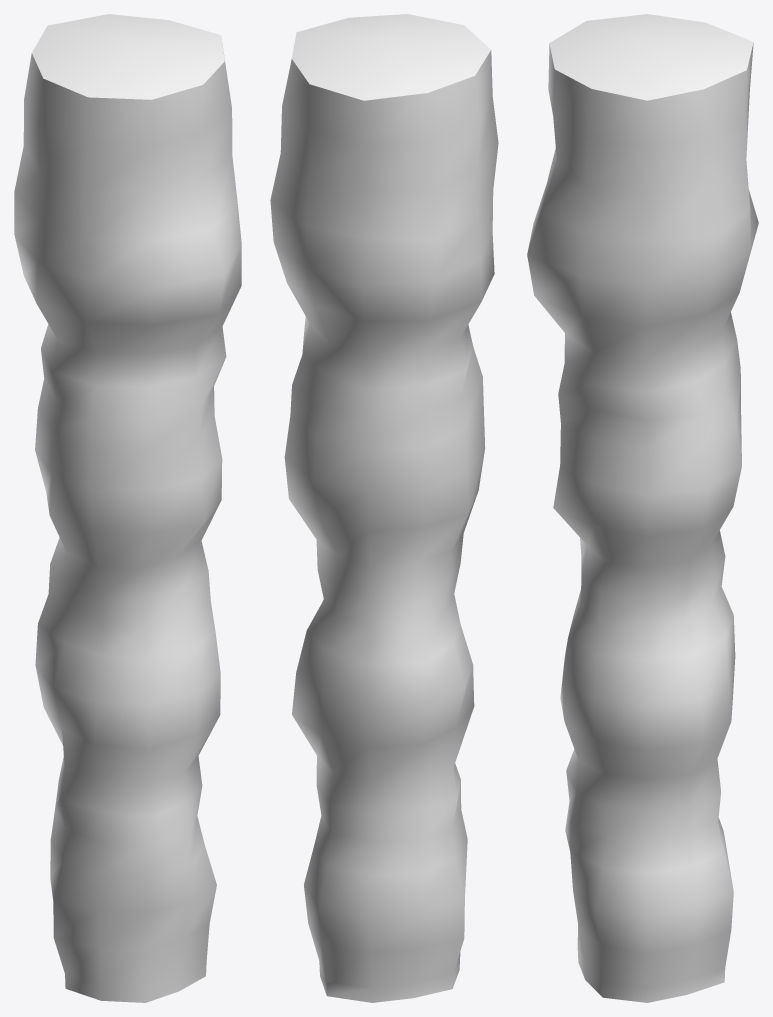
File: corner.glb
3 renders of one model, left to right at view 1: azimuth 30°, elevation 25°; view 2: azimuth 150°, elevation 25°; view 3: azimuth 270°, elevation 25°, orthographic.
Parts seen in each view (by area): view 1: Corner; view 2: Corner; view 3: Corner.
Part boxes in pixels (<box>): Corner: <box>14,14,241,1002</box>; Corner: <box>270,14,498,1002</box>; Corner: <box>527,14,758,1002</box>.
Size of the model in its own units: 4.02 by 18.6 by 4.2.
Materials: 1 (1 with a texture image).
